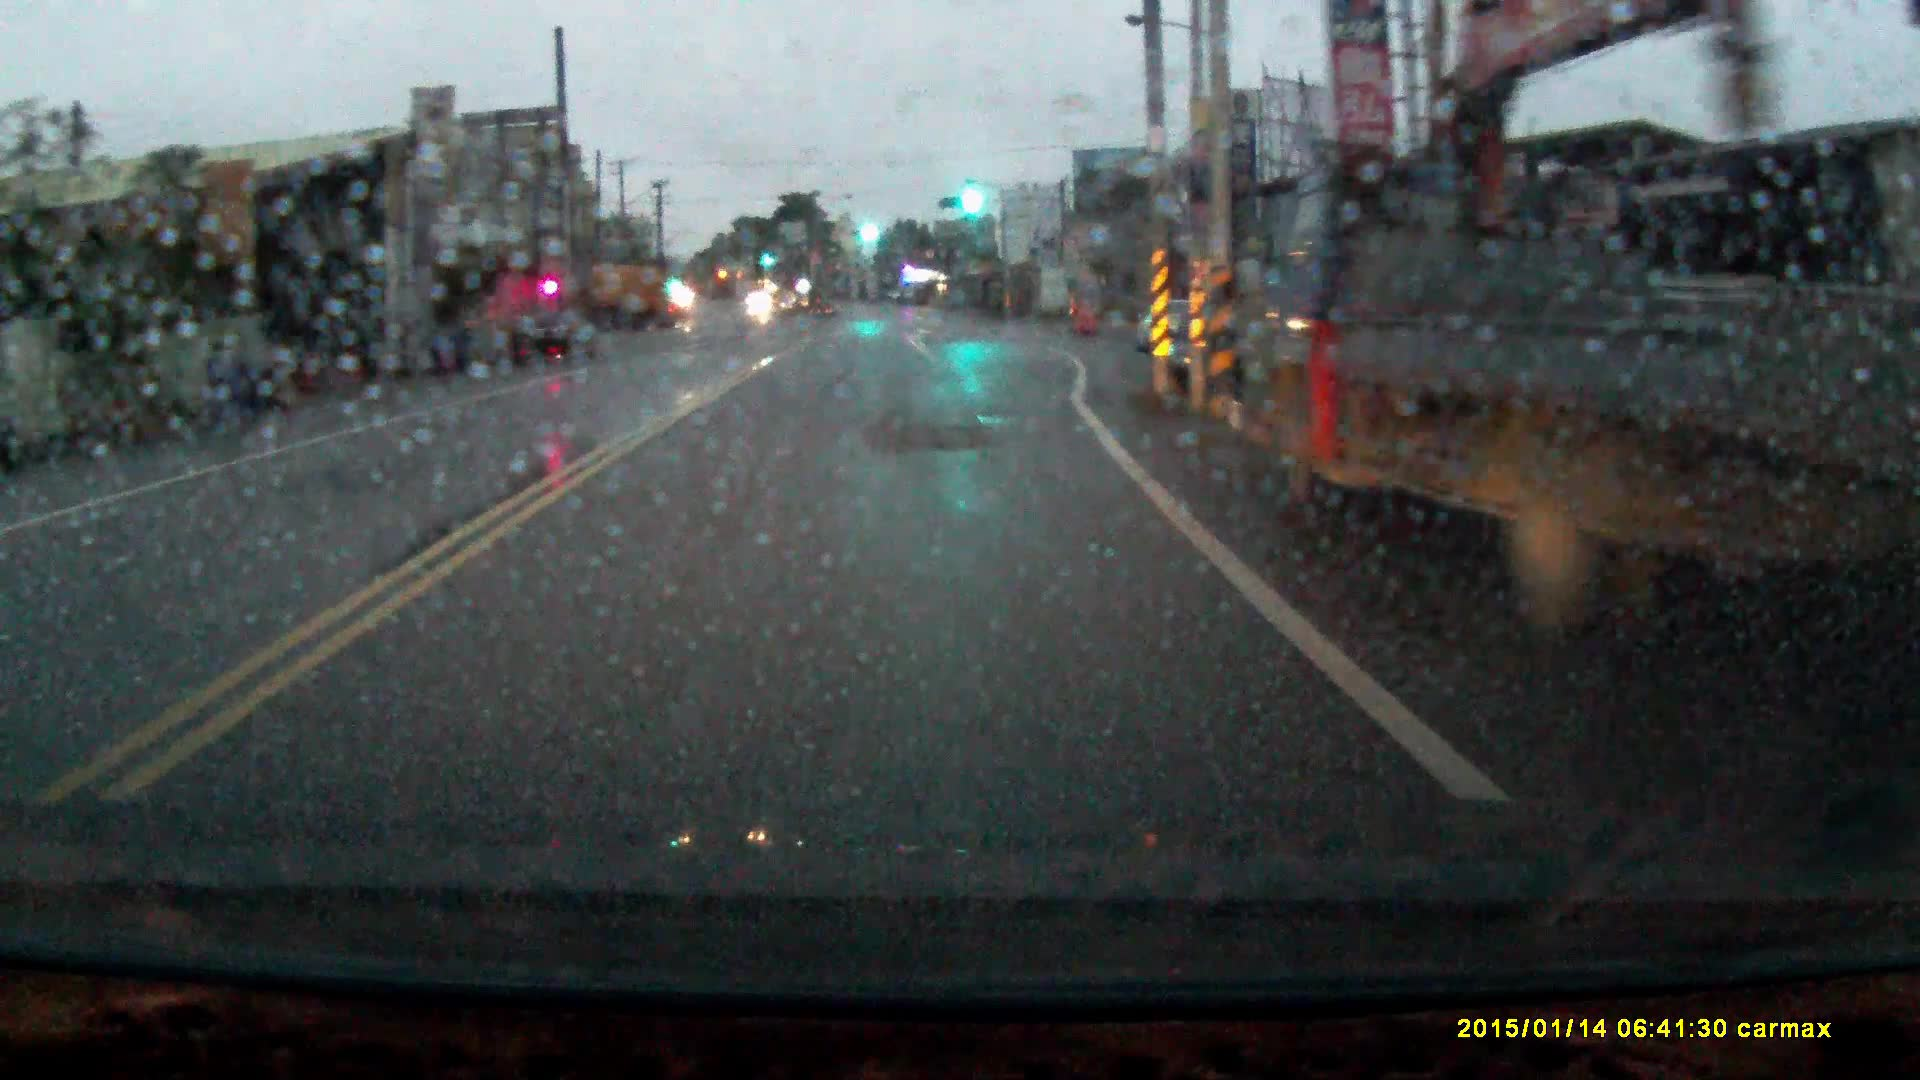vehicle: (1261, 165, 1920, 646), (564, 257, 670, 330), (513, 306, 596, 361)
